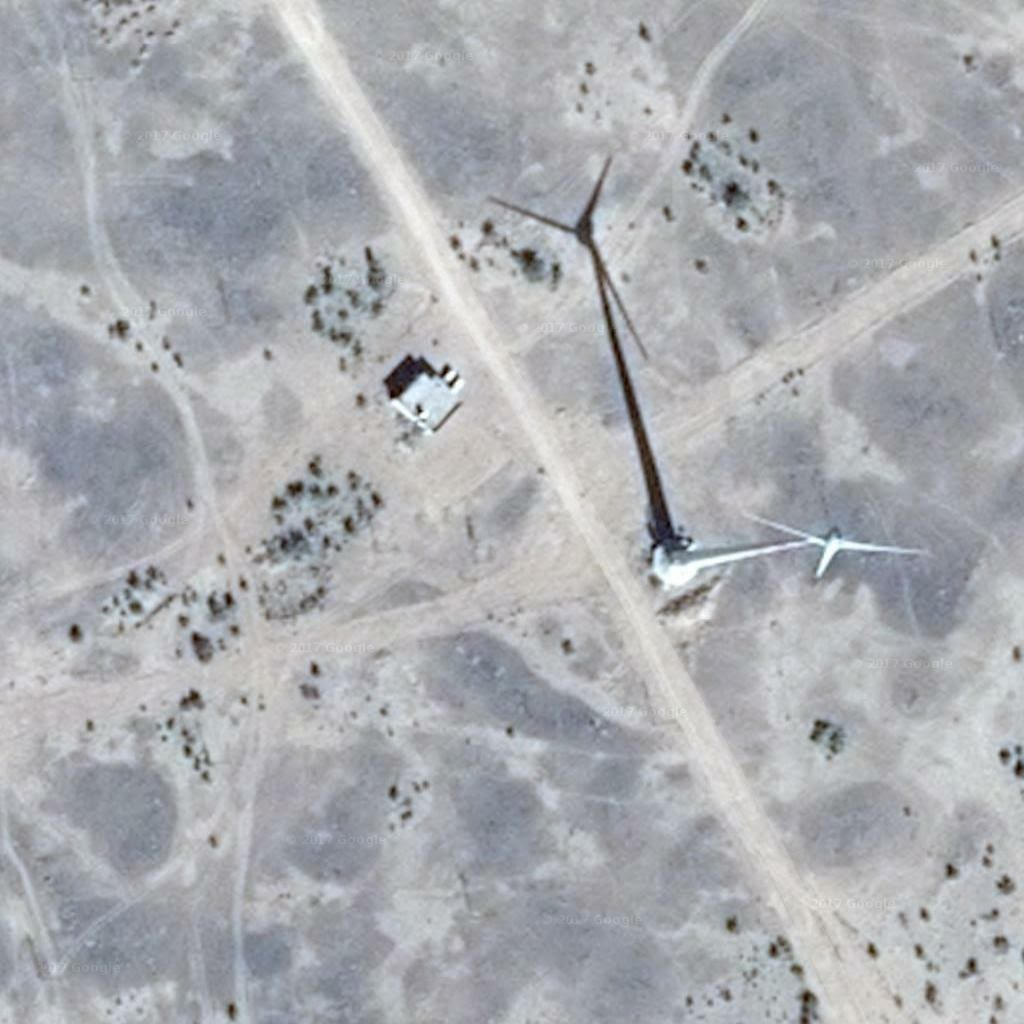Windmill: (485, 173, 705, 542)
